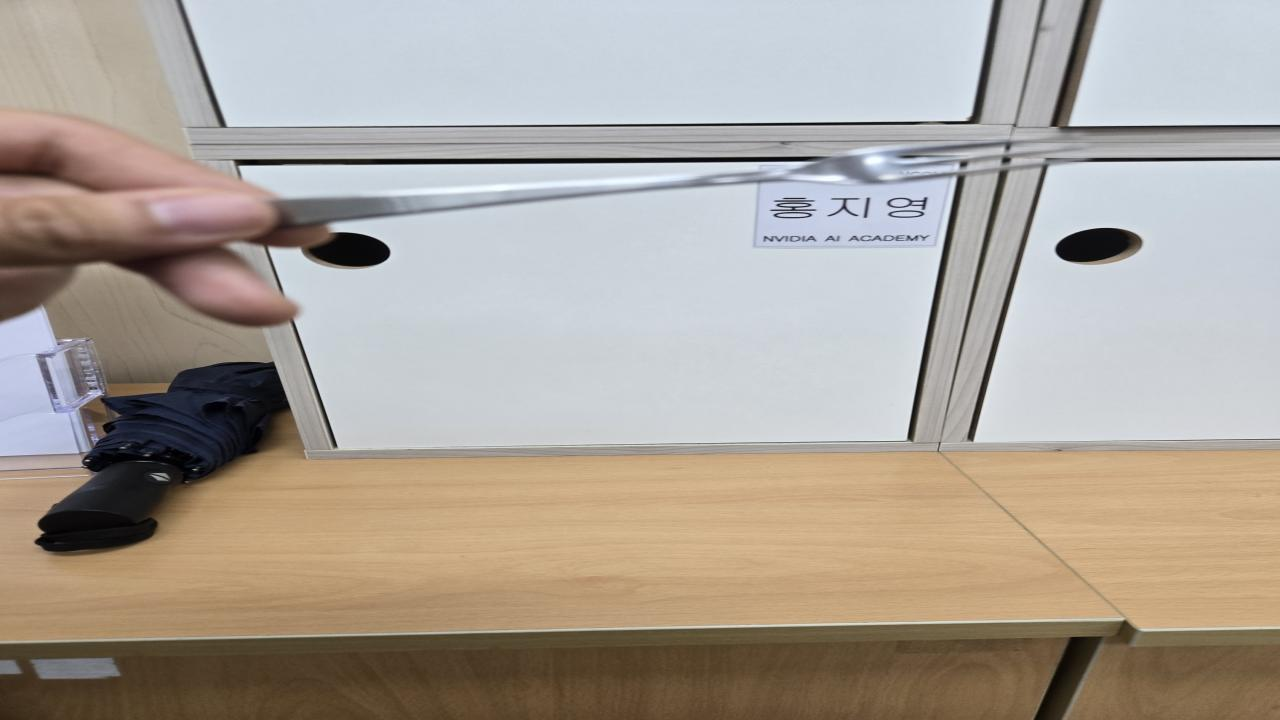fork: (270, 131, 1094, 226)
